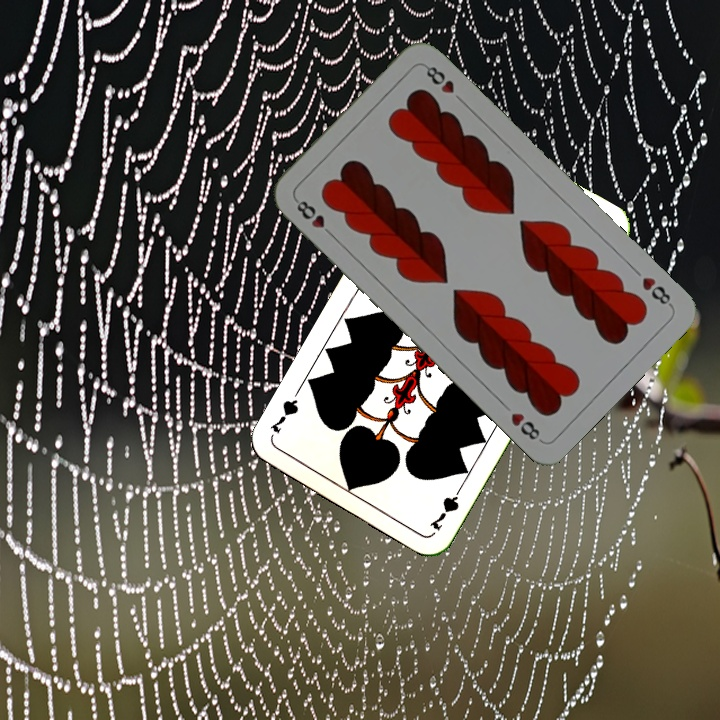G7: (425, 480, 466, 533)
H8: (291, 194, 337, 240), (638, 273, 675, 310)
